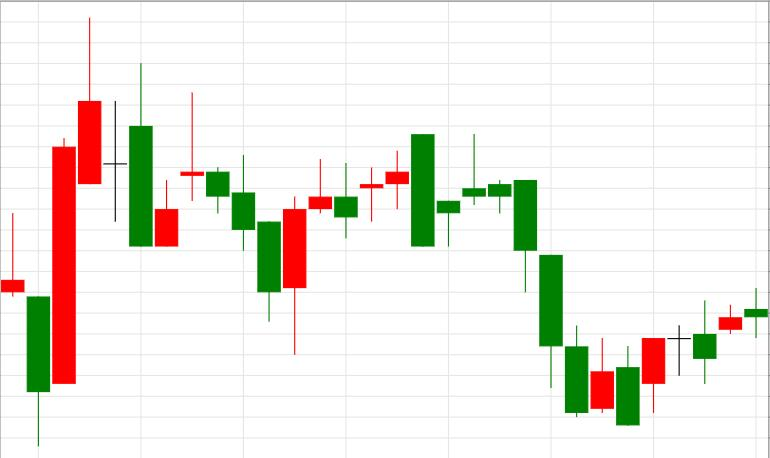bearish_engulfing_fall: (284, 134, 434, 356)
bullish_engulfing_rise: (181, 92, 306, 356)
